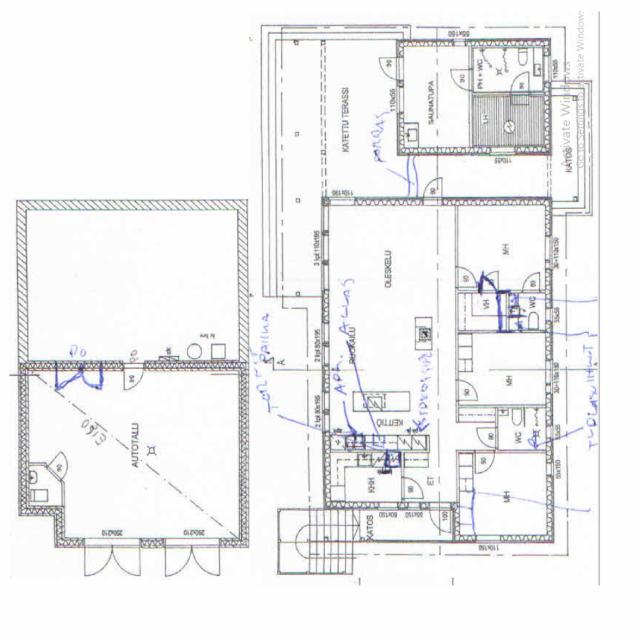door: (112, 537, 140, 576), (84, 537, 112, 576), (192, 538, 220, 576), (165, 538, 192, 576), (46, 451, 75, 482), (55, 360, 79, 395), (79, 360, 102, 395), (373, 57, 404, 81), (429, 502, 449, 532), (124, 360, 143, 391), (448, 69, 472, 91), (454, 380, 478, 401), (454, 266, 478, 287), (424, 180, 441, 208), (401, 478, 423, 498), (477, 428, 499, 447), (476, 450, 494, 473), (510, 73, 528, 95), (480, 272, 496, 294), (523, 273, 539, 293)
